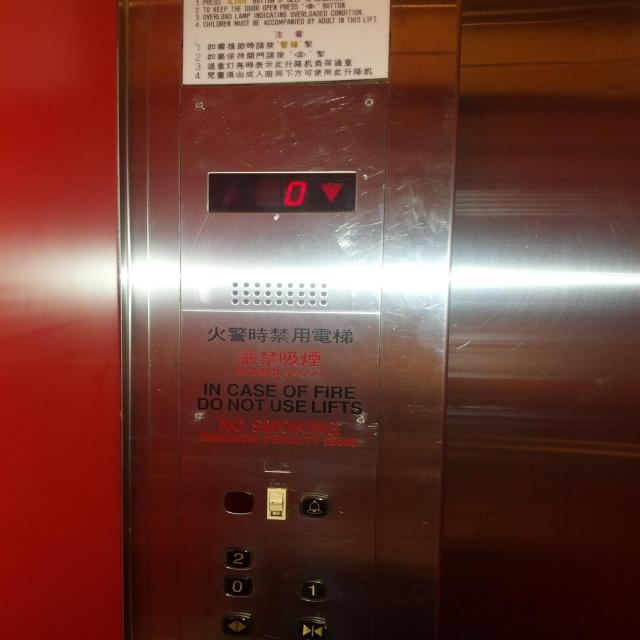0: (222, 574, 254, 598)
1: (297, 578, 329, 604)
2: (223, 544, 255, 572)
alarm: (298, 492, 330, 519)
close: (297, 616, 328, 639)
empty: (224, 490, 255, 515)
led: (204, 168, 358, 214)
open: (221, 611, 253, 639)
switch: (267, 487, 286, 519)
